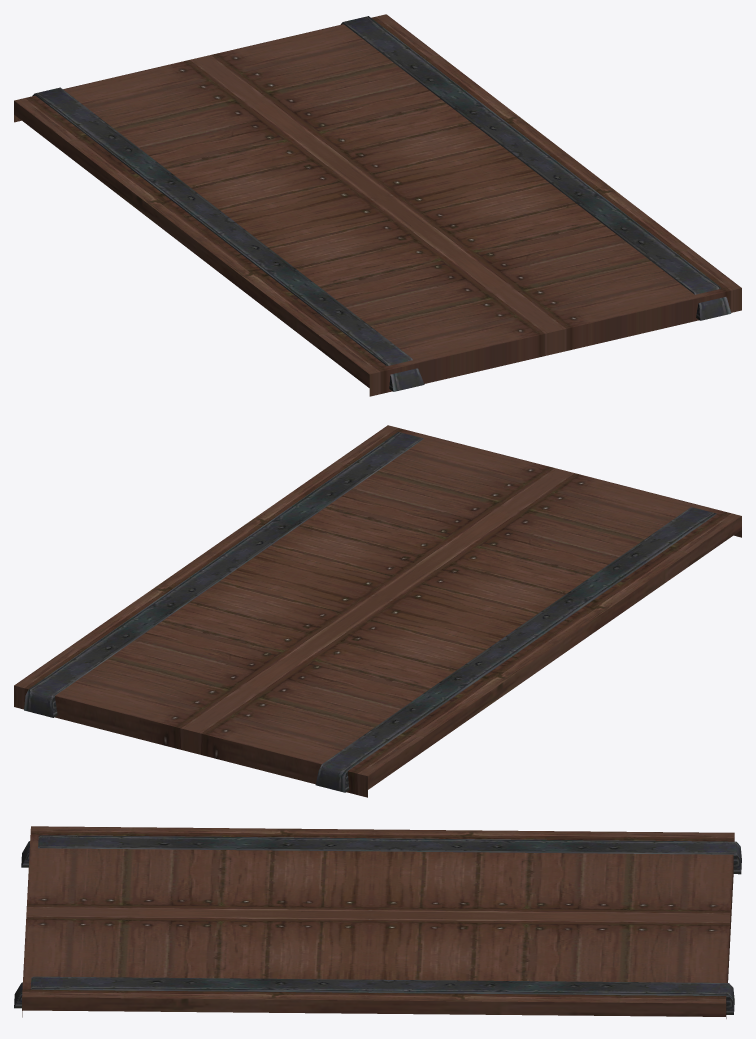
3 views of the same model, one above another, from view 1: azimuth 30°, elevation 25°; view 2: azimuth 150°, elevation 25°; view 3: azimuth 270°, elevation 25° (orthographic). The views are drawn at different scales.
Parts seen in each view (by area): view 1: polySurface538; view 2: polySurface538; view 3: polySurface538.
Part boxes in pixels (x1,y1,x2,y2): polySurface538: (14,14,741,396); polySurface538: (14,425,741,797); polySurface538: (14,826,741,1018).
Bounding box in the file's own units: 20.86 × 1.23 × 36.18.
